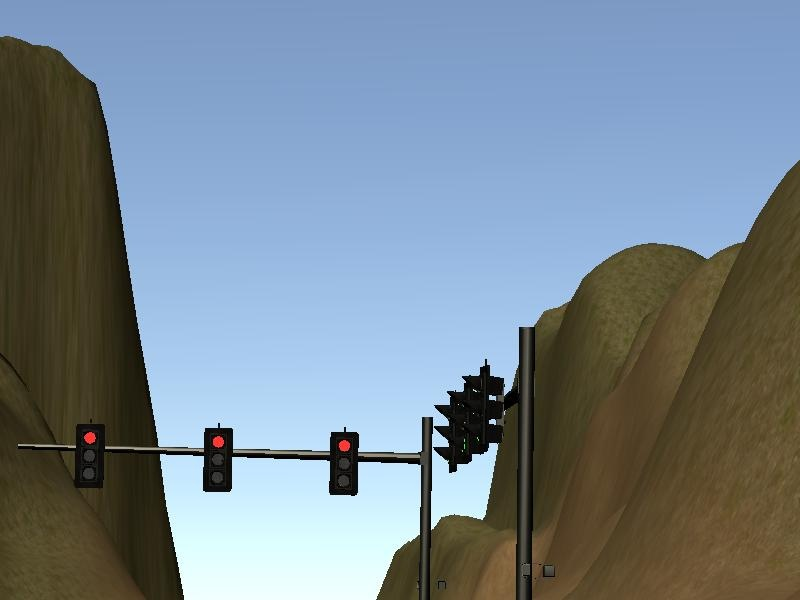red: (199, 421, 238, 496), (326, 426, 364, 501), (71, 418, 110, 491)
